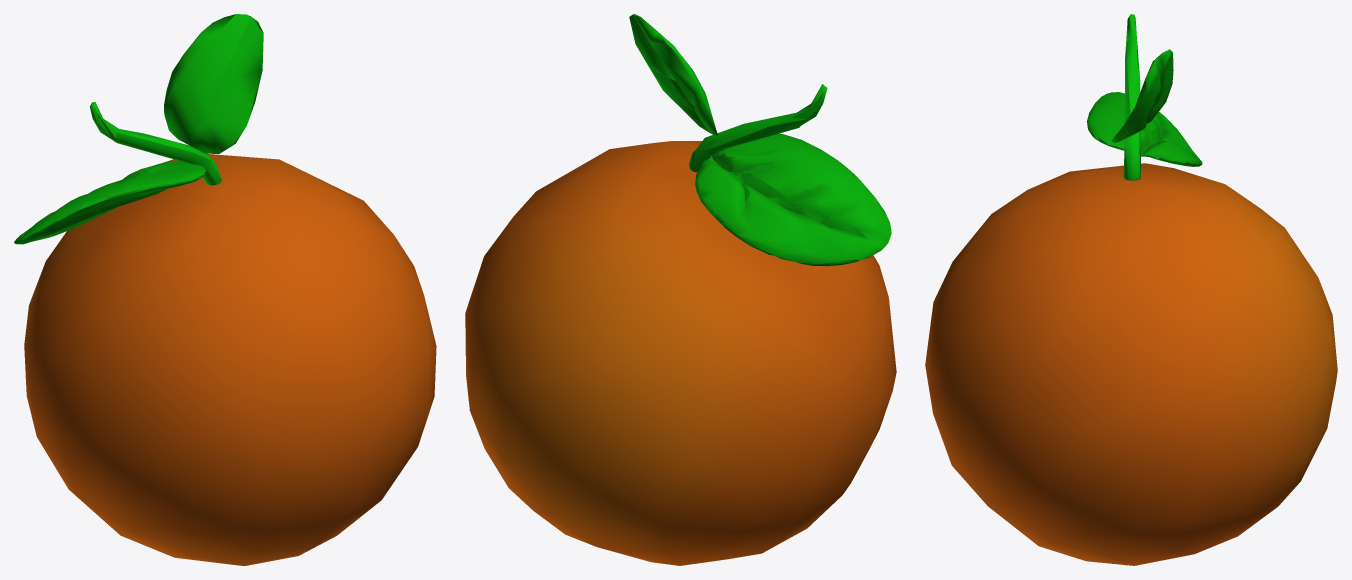
Rendered from Naranja.fbx.
3 views of the same model, side by side, from view 1: azimuth 30°, elevation 25°; view 2: azimuth 150°, elevation 25°; view 3: azimuth 270°, elevation 25° (orthographic). The views are drawn at different scales.
Visible parts, largest first — view 1: Naranja.000; view 2: Naranja.000; view 3: Naranja.000.
Boxes of the visible parts, x1,y1,x2,y2 form: Naranja.000: (14,14,436,565); Naranja.000: (465,14,896,565); Naranja.000: (925,14,1337,565).
Bounding box in the file's own units: 120 × 150 × 112.
